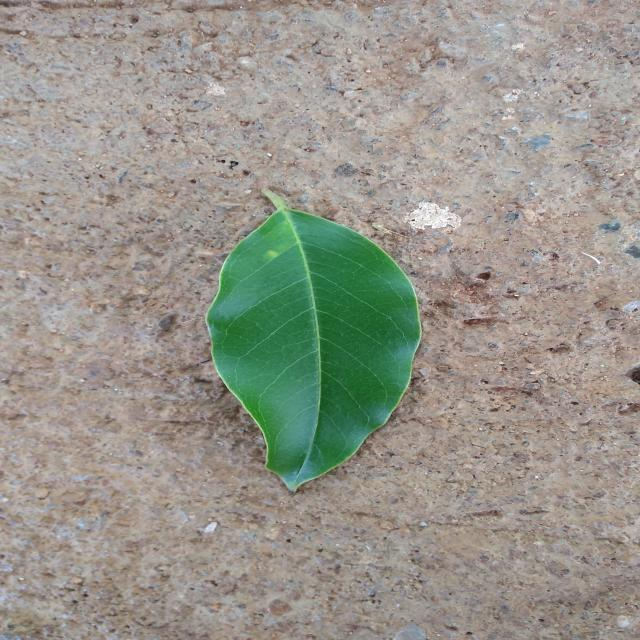sampige: (207, 189, 420, 490)
